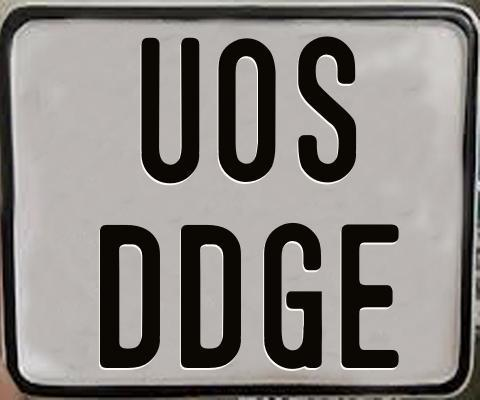0: (217, 38, 280, 187)
D: (180, 225, 242, 372), (98, 223, 158, 371)
E: (341, 221, 400, 371)
G: (263, 223, 326, 374)
S: (295, 33, 358, 181)
U: (140, 38, 202, 189)
